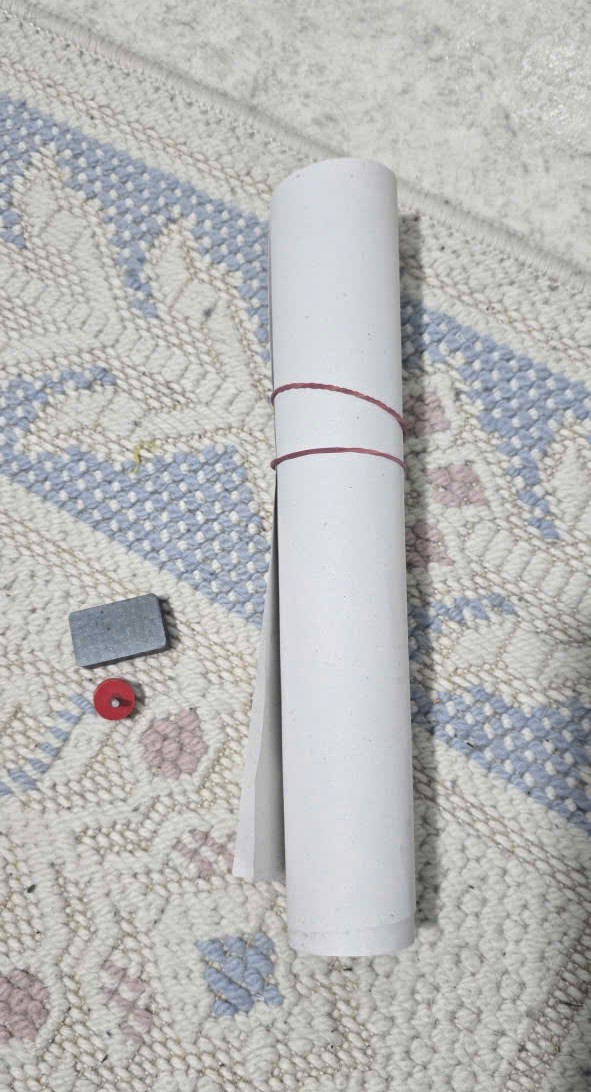paper: (229, 149, 437, 976)
